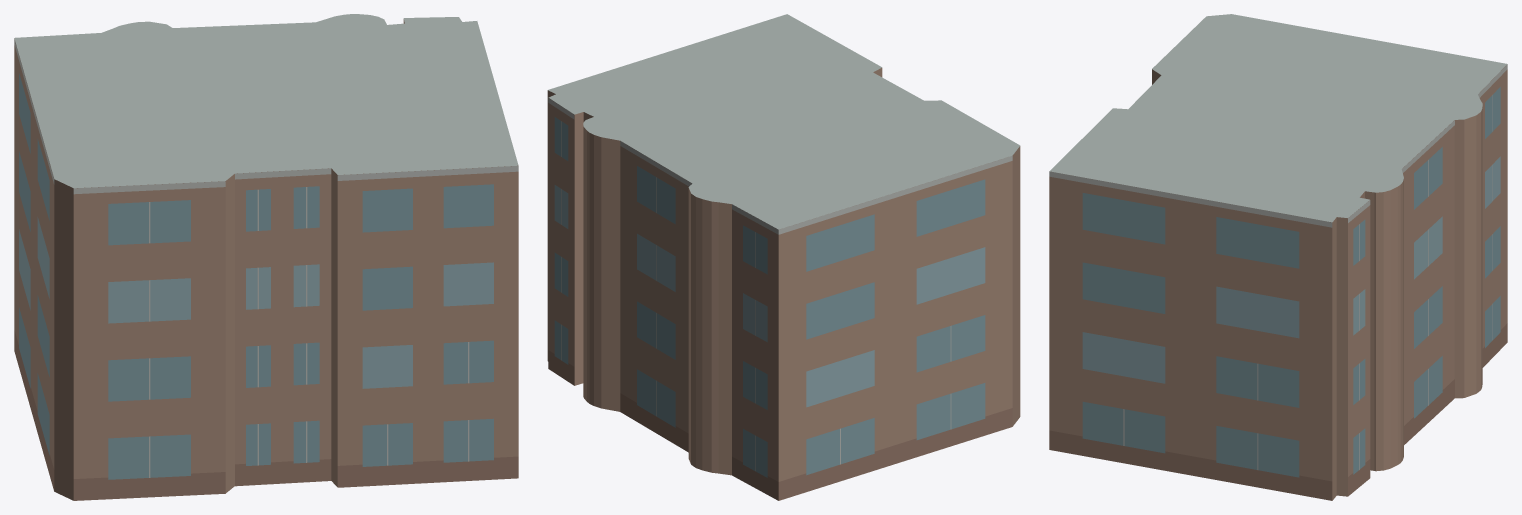
File: survey-upis-32527549.glb
3 renders of one model, left to right at view 1: azimuth 30°, elevation 25°; view 2: azimuth 150°, elevation 25°; view 3: azimuth 270°, elevation 25°, orthographic. The views are drawn at different scales.
Visible parts, largest first — view 1: survey-upis-32527549.tmp; view 2: survey-upis-32527549.tmp; view 3: survey-upis-32527549.tmp.
Boxes of the visible parts, box(x1,y1,x2,y2) form: survey-upis-32527549.tmp: box(14, 14, 518, 500); survey-upis-32527549.tmp: box(547, 14, 1020, 500); survey-upis-32527549.tmp: box(1049, 14, 1507, 500).
Bounding box in the file's own units: 20.55 × 12.8 × 19.09.
